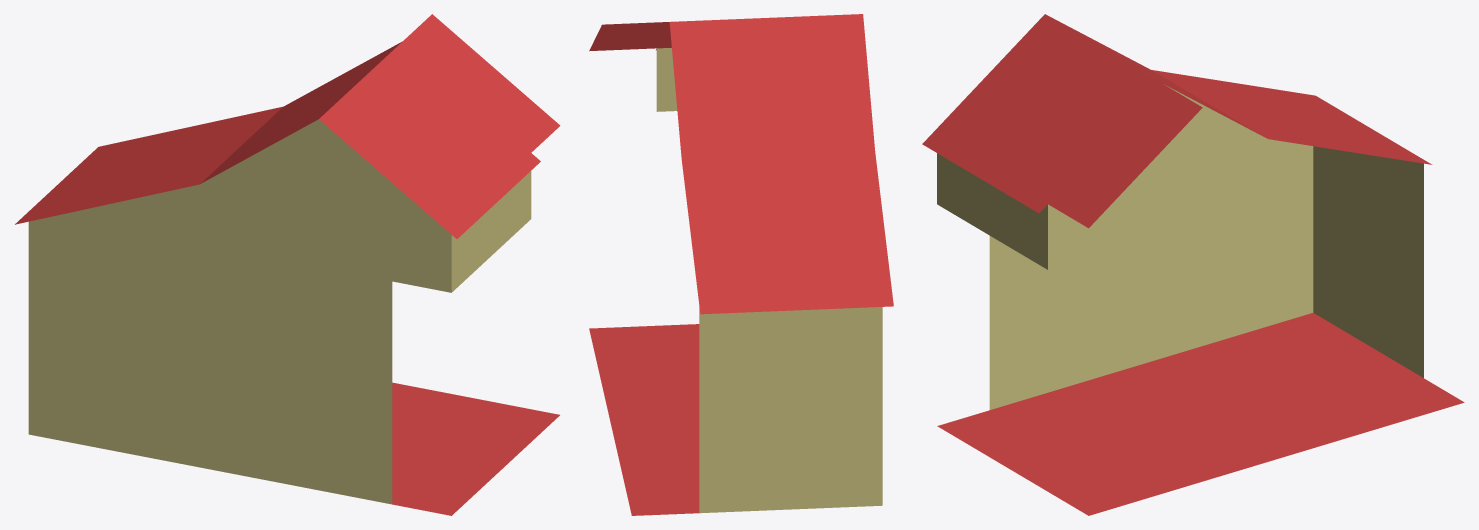
The picture shows the model from 3 angles, left to right: view 1: azimuth 30°, elevation 25°; view 2: azimuth 150°, elevation 25°; view 3: azimuth 270°, elevation 25°; orthographic projection. The views are drawn at different scales.
Bounding box in the file's own units: 11.56 × 12.65 × 9.62.
